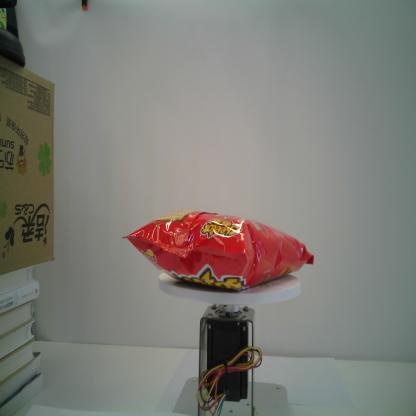Puffed Food: (121, 209, 316, 292)
